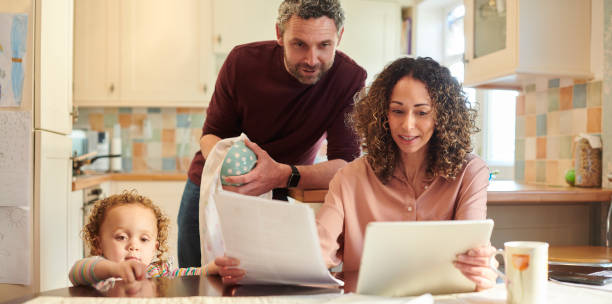without mask: (99, 199, 159, 272), (279, 11, 339, 84), (382, 77, 442, 150)
